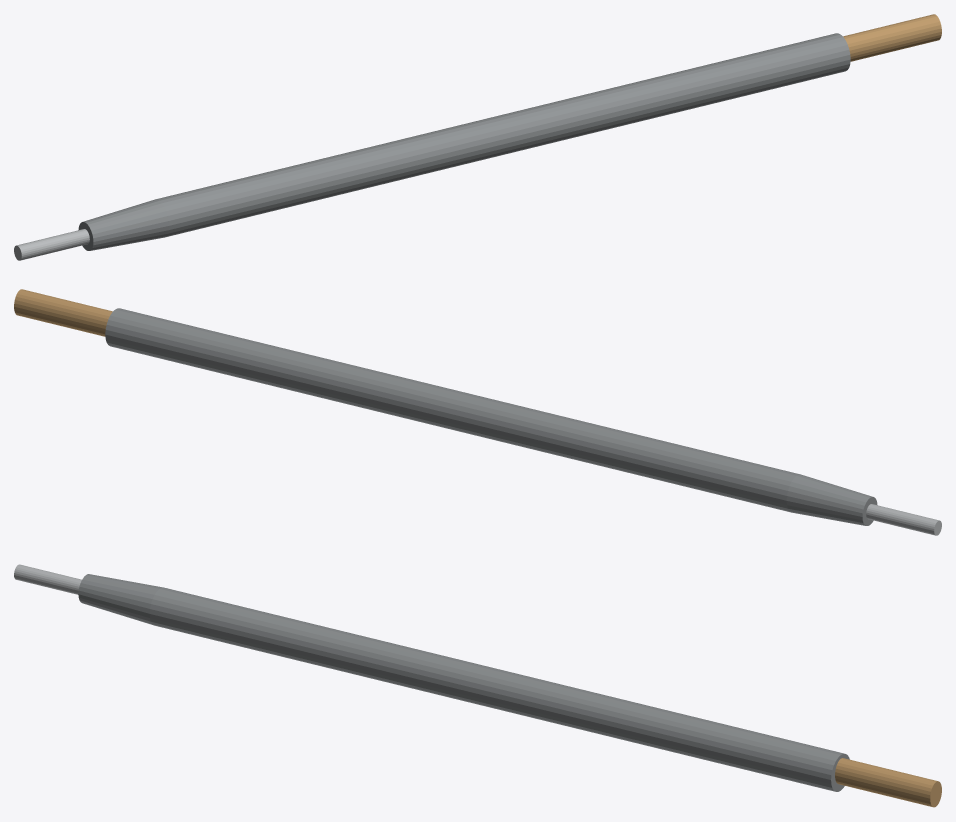
Rendered from copperElectrode.glb.
The picture shows the model from 3 angles, top to bottom: view 1: azimuth 30°, elevation 25°; view 2: azimuth 150°, elevation 25°; view 3: azimuth 330°, elevation 25°; orthographic projection.
Visible parts, largest first — view 1: Mesh_Mesh_head_geo.001_lambert2SG.001; view 2: Mesh_Mesh_head_geo.001_lambert2SG.001; view 3: Mesh_Mesh_head_geo.001_lambert2SG.001.
Boxes of the visible parts, left/top/right/bottom form: Mesh_Mesh_head_geo.001_lambert2SG.001: left=14, top=14, right=941, bottom=260; Mesh_Mesh_head_geo.001_lambert2SG.001: left=14, top=289, right=941, bottom=535; Mesh_Mesh_head_geo.001_lambert2SG.001: left=14, top=564, right=941, bottom=807.
Size of the model in its own units: 135 by 5 by 5.
